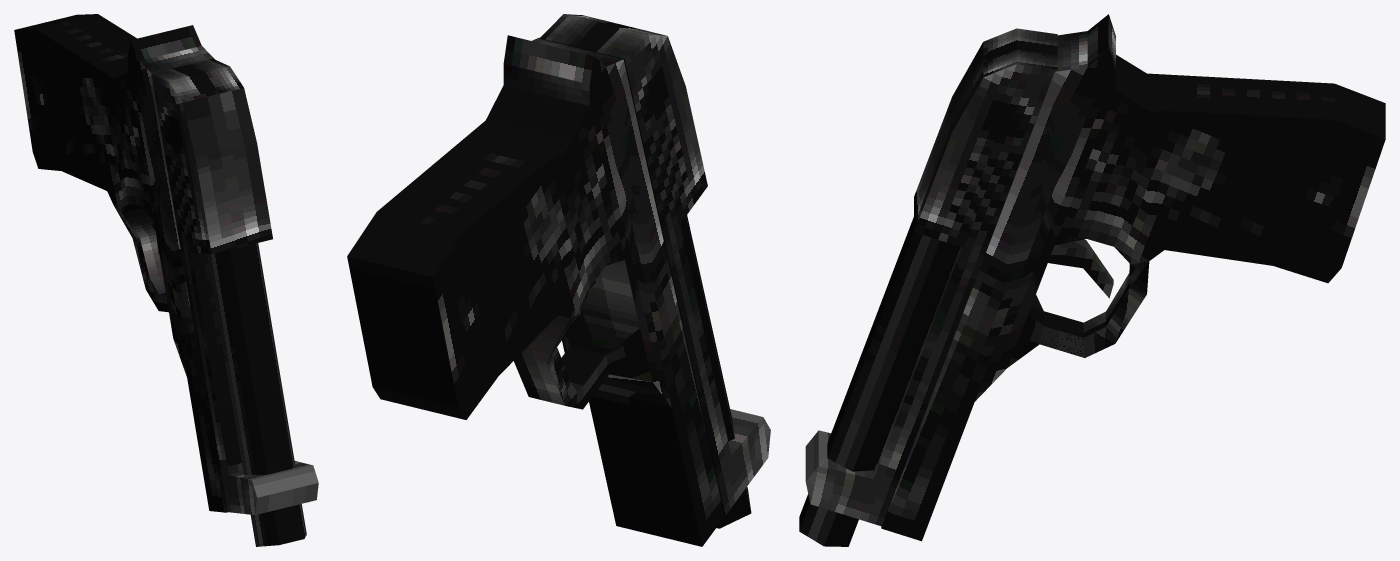
File: SM_MafiaBeretta.fbx
The picture shows the model from 3 angles, left to right: view 1: azimuth 30°, elevation 25°; view 2: azimuth 150°, elevation 25°; view 3: azimuth 270°, elevation 25°; orthographic projection. The views are drawn at different scales.
Visible parts, largest first — view 1: Mesh1; view 2: Mesh1; view 3: Mesh1.
Boxes of the visible parts, left/top/right/bottom form: Mesh1: left=14, top=14, right=318, bottom=546; Mesh1: left=347, top=14, right=770, bottom=546; Mesh1: left=799, top=14, right=1385, bottom=546.
Bounding box in the file's own units: 1.48 × 9.55 × 10.
Materials: 1 (1 with a texture image).
